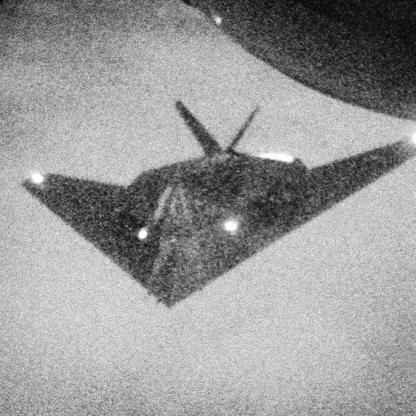F117: (22, 101, 416, 313)
